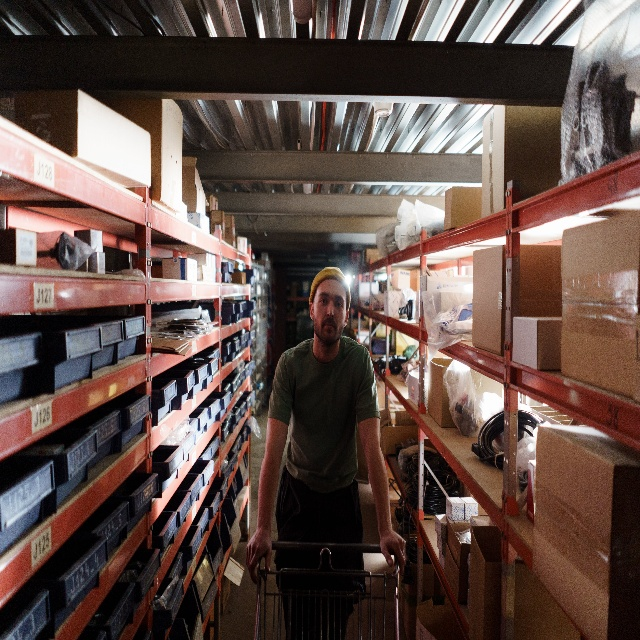Sin_guantes: (245, 526, 272, 585), (380, 527, 406, 578)
